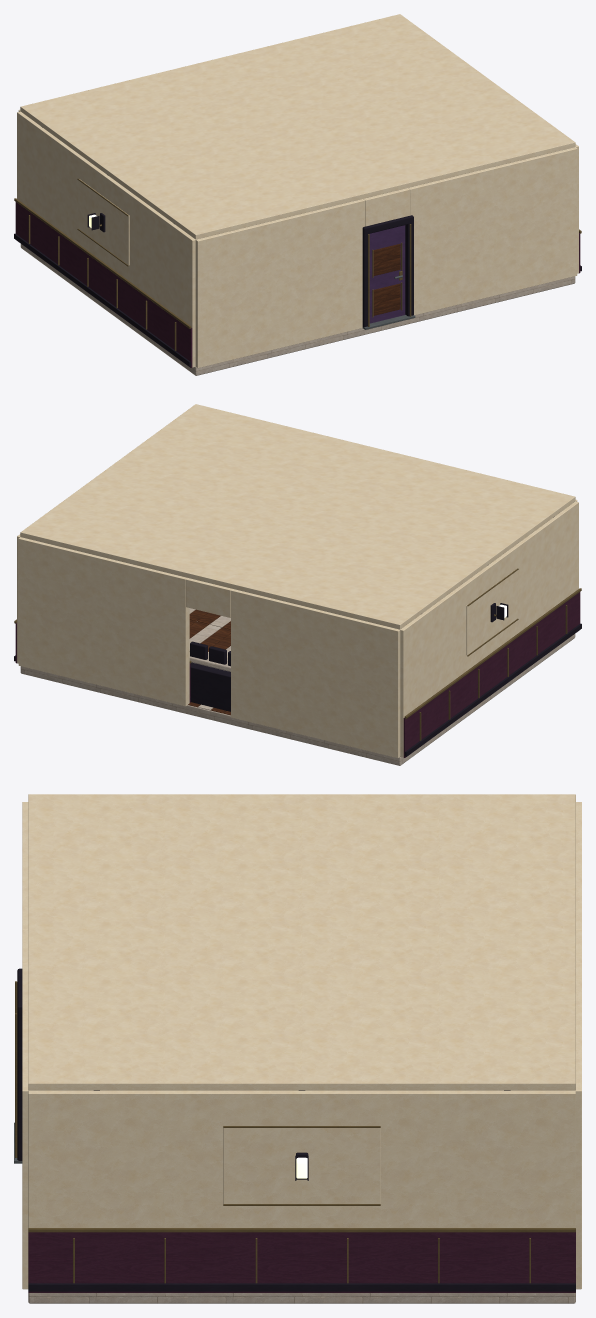
The model's file is explore3d__theatre_preparation.glb.
3 renders of one model, top to bottom at view 1: azimuth 30°, elevation 25°; view 2: azimuth 150°, elevation 25°; view 3: azimuth 270°, elevation 25°, orthographic. The views are drawn at different scales.
Parts seen in each view (by area): view 1: ceiling_surface.004, front_wall.014, front_wall.012, left_wall.020, left_wainscot.012, floor.004, left_upper_inset.012, theatre_preparation_leaf, front_wall.013, left_skirt.012, left_rail.012, theatre_preparation_jamb.001 (+3 smaller); view 2: ceiling_surface.004, back_wall.011, back_wall.009, left_wall.020, left_wainscot.012, floor.004, left_upper_inset.012, theatre_preparation_base, back_wall.010, left_skirt.012, left_rail.012; view 3: ceiling_surface.004, right_wall.020, right_wainscot.012, right_upper_inset.012, floor.004, right_skirt.012, right_rail.012, front_wall.012, back_wall.011, front_wall.014, theatre_preparation_jamb.001, back_wall.009.
Boxes of the visible parts, box(x1,y1,x2,y2) form: ceiling_surface.004: box(20, 14, 575, 239); front_wall.014: box(195, 199, 364, 367); front_wall.012: box(408, 147, 577, 315); left_wall.020: box(17, 111, 195, 367); left_wainscot.012: box(15, 202, 192, 367); floor.004: box(20, 244, 575, 375); left_upper_inset.012: box(78, 179, 129, 265); theatre_preparation_leaf: box(369, 225, 405, 323); front_wall.013: box(363, 188, 409, 226); left_skirt.012: box(14, 233, 191, 366); left_rail.012: box(14, 198, 191, 328); theatre_preparation_jamb.001: box(405, 220, 413, 316); ceiling_surface.004: box(20, 404, 575, 629); back_wall.011: box(18, 537, 189, 706); back_wall.009: box(231, 589, 400, 757); left_wall.020: box(400, 501, 578, 757); left_wainscot.012: box(403, 592, 580, 757); floor.004: box(20, 621, 575, 765); left_upper_inset.012: box(466, 569, 517, 655); theatre_preparation_base: box(190, 662, 230, 711); back_wall.010: box(186, 578, 232, 617); left_skirt.012: box(404, 623, 581, 756); left_rail.012: box(404, 588, 581, 718); ceiling_surface.004: box(28, 794, 575, 1090); right_wall.020: box(28, 1090, 575, 1227); right_wainscot.012: box(28, 1232, 575, 1292); right_upper_inset.012: box(223, 1128, 380, 1203); floor.004: box(28, 1293, 575, 1303); right_skirt.012: box(28, 1283, 575, 1291); right_rail.012: box(28, 1228, 575, 1232); front_wall.012: box(22, 963, 28, 1289); back_wall.011: box(575, 963, 581, 1289); front_wall.014: box(22, 802, 28, 929); theatre_preparation_jamb.001: box(17, 1015, 22, 1160); back_wall.009: box(576, 802, 581, 929).
Bounding box in the file's own units: 10.96 × 3.56 × 8.3.
Materials: 18 (16 with a texture image).
